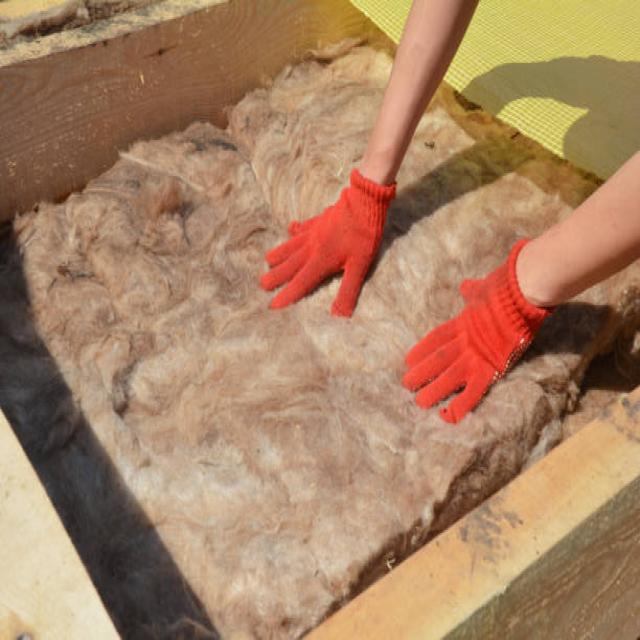gloves: (400, 238, 556, 430), (256, 165, 398, 321)
